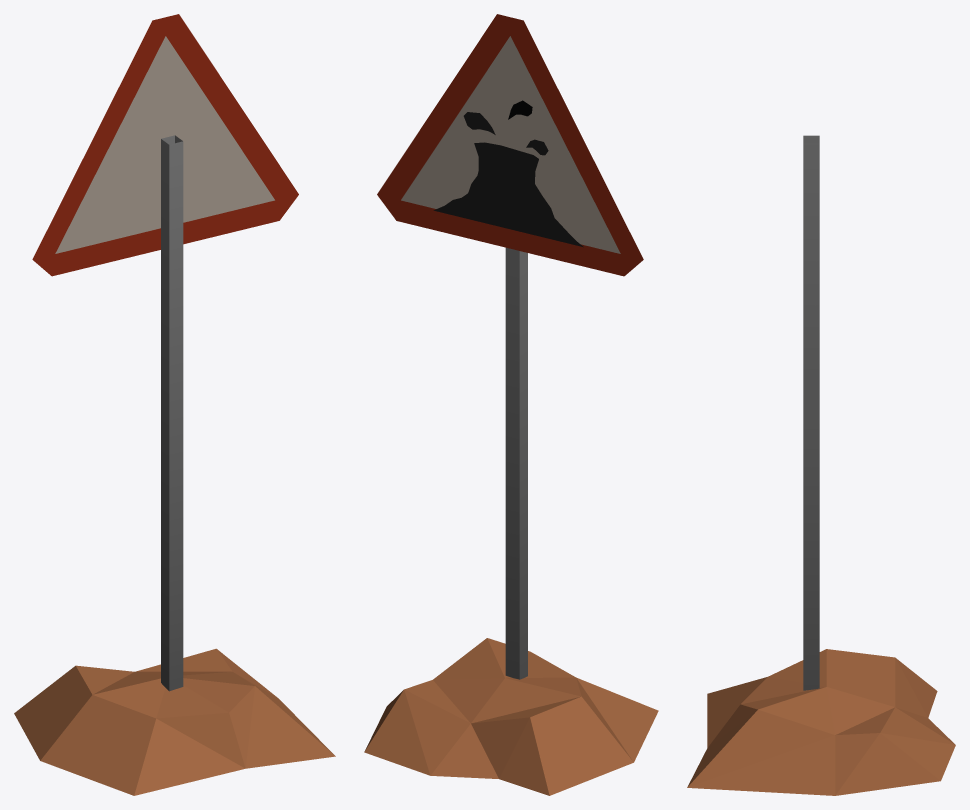
Rendered from sign_vulcano_01.fbx.
3 views of the same model, side by side, from view 1: azimuth 30°, elevation 25°; view 2: azimuth 150°, elevation 25°; view 3: azimuth 270°, elevation 25° (orthographic).
Visible parts, largest first — view 1: sign_vulcano_01; view 2: sign_vulcano_01; view 3: sign_vulcano_01.
Boxes of the visible parts, bbox=[...] form: sign_vulcano_01: bbox=[14, 14, 335, 795]; sign_vulcano_01: bbox=[364, 14, 658, 795]; sign_vulcano_01: bbox=[687, 135, 955, 795].
Size of the model in its own units: 257 by 672 by 223.
